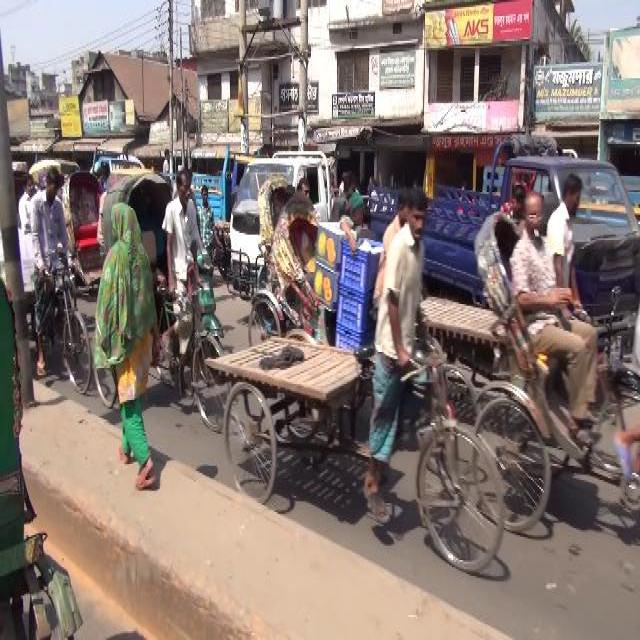motorcycle: (102, 171, 229, 446), (60, 160, 111, 313)
